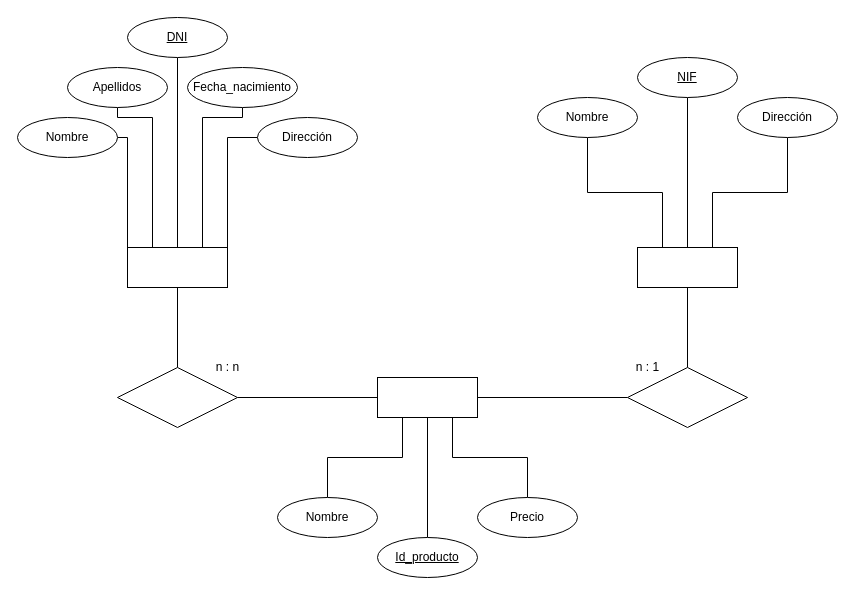
Some shapes in this 855 by 595 pixel diagram are drawn without their labels. Here are the shapes that lost their labels. From the top down, the box of each, then its label:
(126, 246, 228, 288): Clientes
(636, 246, 738, 288): Proveedores
(116, 366, 238, 428): Compran
(376, 376, 478, 418): Productos
(626, 366, 748, 428): Suministran
